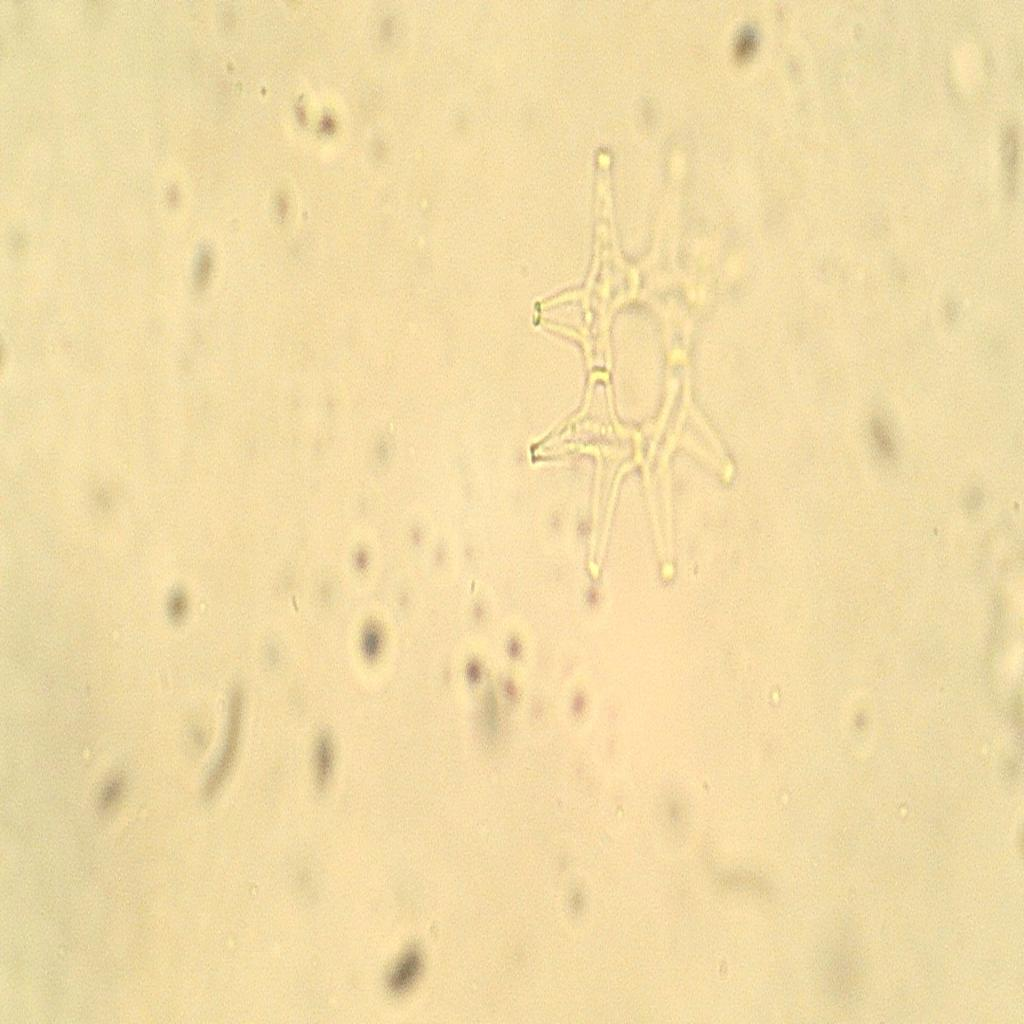Pediastrum_75TH: (494, 84, 770, 626)
